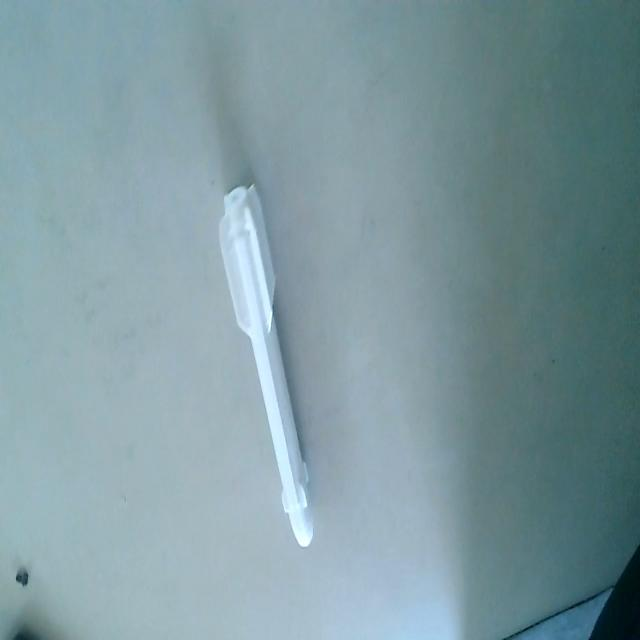Rocket: (221, 179, 318, 555)
